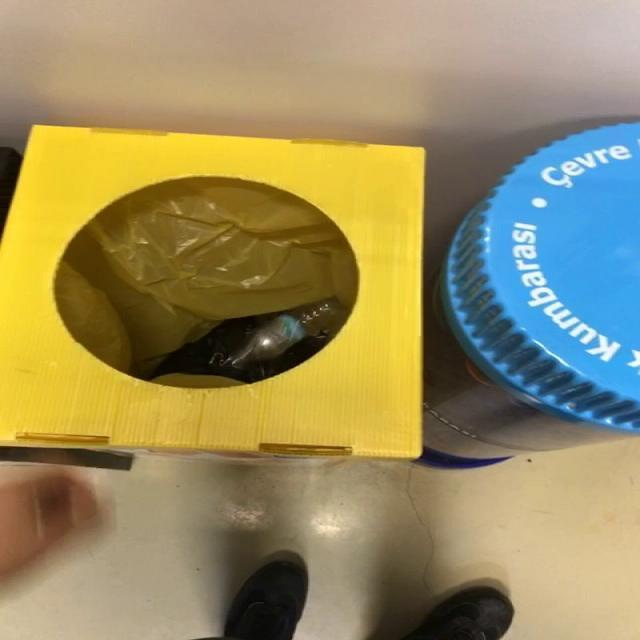Plastic: (231, 299, 347, 368)
